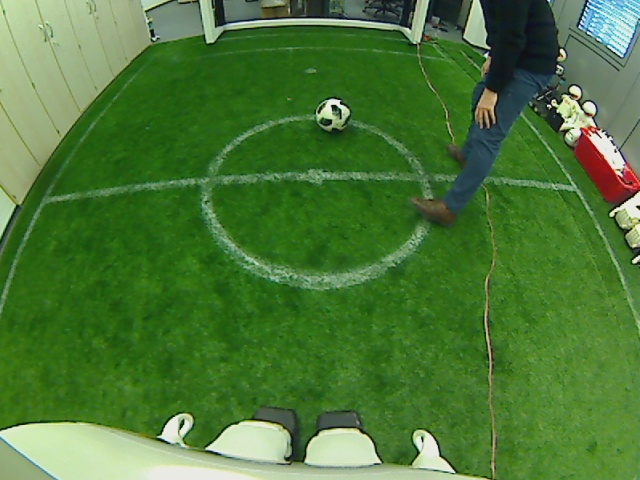ball: (314, 96, 352, 133)
